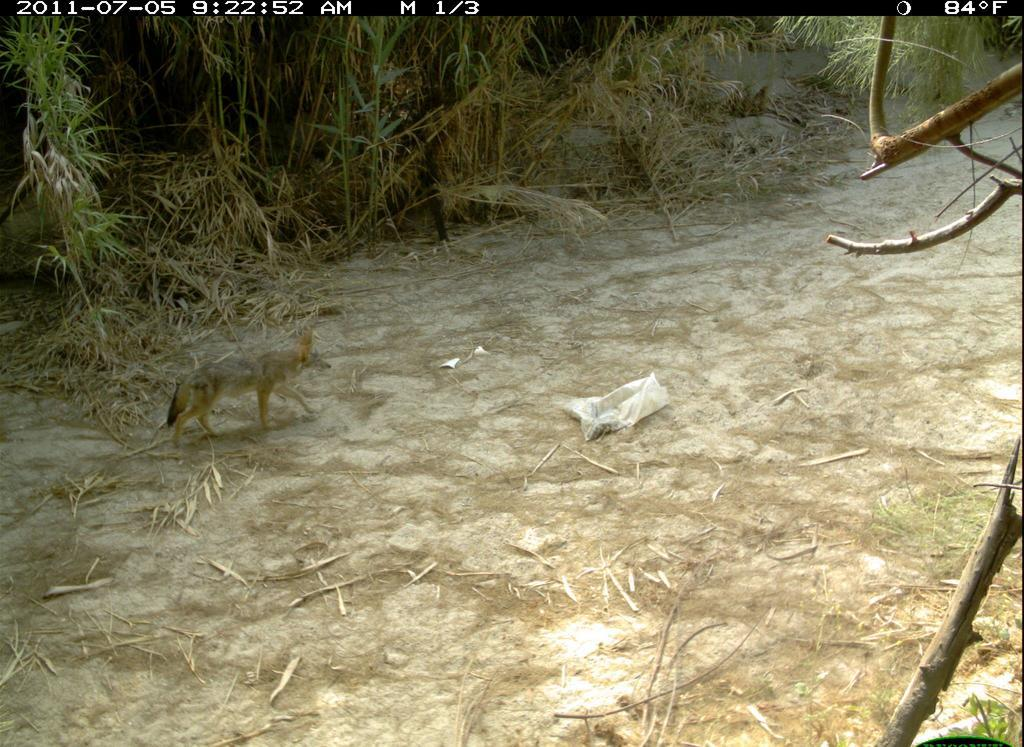coyote: (159, 322, 341, 460)
